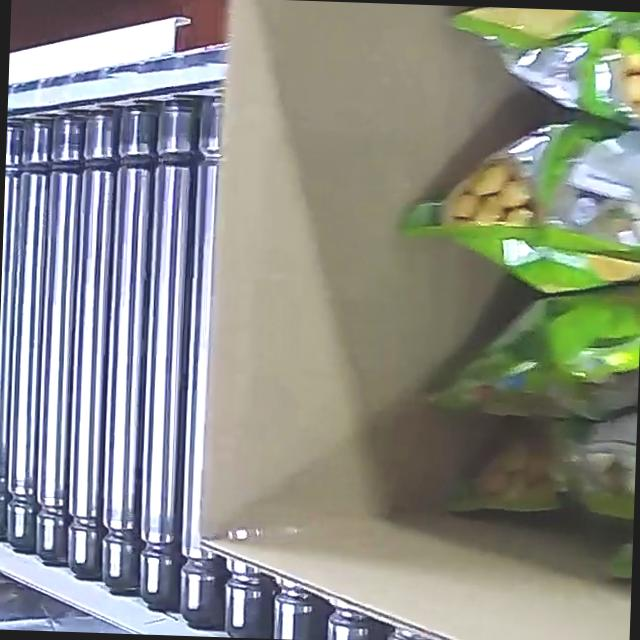yogurt: (387, 3, 640, 602)
